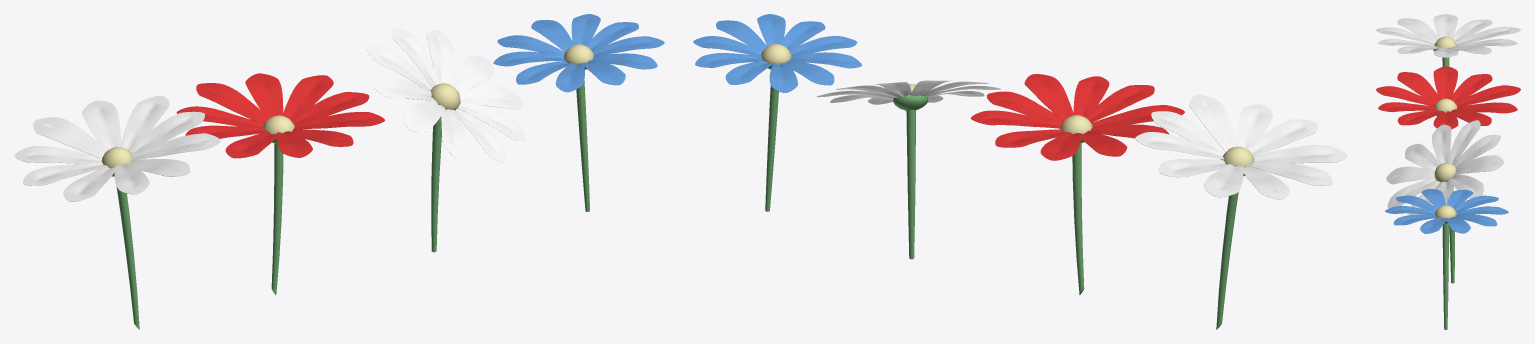
The model's file is Flowers.fbx.
3 views of the same model, side by side, from view 1: azimuth 30°, elevation 25°; view 2: azimuth 150°, elevation 25°; view 3: azimuth 270°, elevation 25° (orthographic). The views are drawn at different scales.
Parts seen in each view (by area): view 1: Line39, Line34, Line40, Line03, Line05, Line32, Line04, Cylinder02, Line37, Cylinder03, Line35, Line36 (+35 smaller); view 2: Line32, Line33, Line31, Line07, Stengel 01, Cylinder02, Line37, Line34, Line38, Line09, Line36, Cylinder03 (+25 smaller); view 3: Line03, Line01, Line10, Line22, Line26, Line28, Line27, Stengel 02, Line21, Line25, Line02, Line09 (+34 smaller).
Part boxes in pixels (bbox=[...]): Line39: bbox=[33, 117, 107, 158]; Line34: bbox=[120, 95, 169, 152]; Line40: bbox=[82, 100, 120, 149]; Line03: bbox=[196, 83, 269, 125]; Line05: bbox=[282, 75, 333, 122]; Line32: bbox=[131, 133, 220, 160]; Line04: bbox=[245, 73, 283, 117]; Cylinder02: bbox=[271, 143, 283, 294]; Line37: bbox=[131, 111, 204, 154]; Cylinder03: bbox=[116, 186, 139, 329]; Line35: bbox=[14, 146, 101, 163]; Line36: bbox=[23, 161, 107, 185]; Line32: bbox=[1189, 94, 1236, 152]; Line33: bbox=[1253, 145, 1347, 163]; Line31: bbox=[1247, 119, 1317, 156]; Line07: bbox=[1024, 74, 1073, 121]; Stengel 01: bbox=[906, 109, 915, 259]; Cylinder02: bbox=[1072, 143, 1084, 294]; Line37: bbox=[1151, 111, 1225, 156]; Line34: bbox=[1135, 132, 1224, 159]; Line38: bbox=[1236, 104, 1272, 148]; Line09: bbox=[1085, 85, 1154, 123]; Line36: bbox=[1249, 161, 1332, 185]; Cylinder03: bbox=[1216, 192, 1238, 329]; Line03: bbox=[1455, 85, 1520, 107]; Line01: bbox=[1433, 66, 1457, 99]; Line10: bbox=[1397, 72, 1439, 102]; Line22: bbox=[1448, 120, 1480, 164]; Line26: bbox=[1454, 134, 1500, 170]; Line28: bbox=[1386, 166, 1434, 184]; Line27: bbox=[1432, 124, 1451, 163]; Stengel 02: bbox=[1442, 224, 1448, 329]; Line21: bbox=[1405, 143, 1440, 172]; Line25: bbox=[1455, 155, 1503, 173]; Line02: bbox=[1451, 74, 1492, 102]; Line09: bbox=[1376, 86, 1436, 106].
Bounding box in the file's own units: 79.32 × 24.71 × 22.12.
